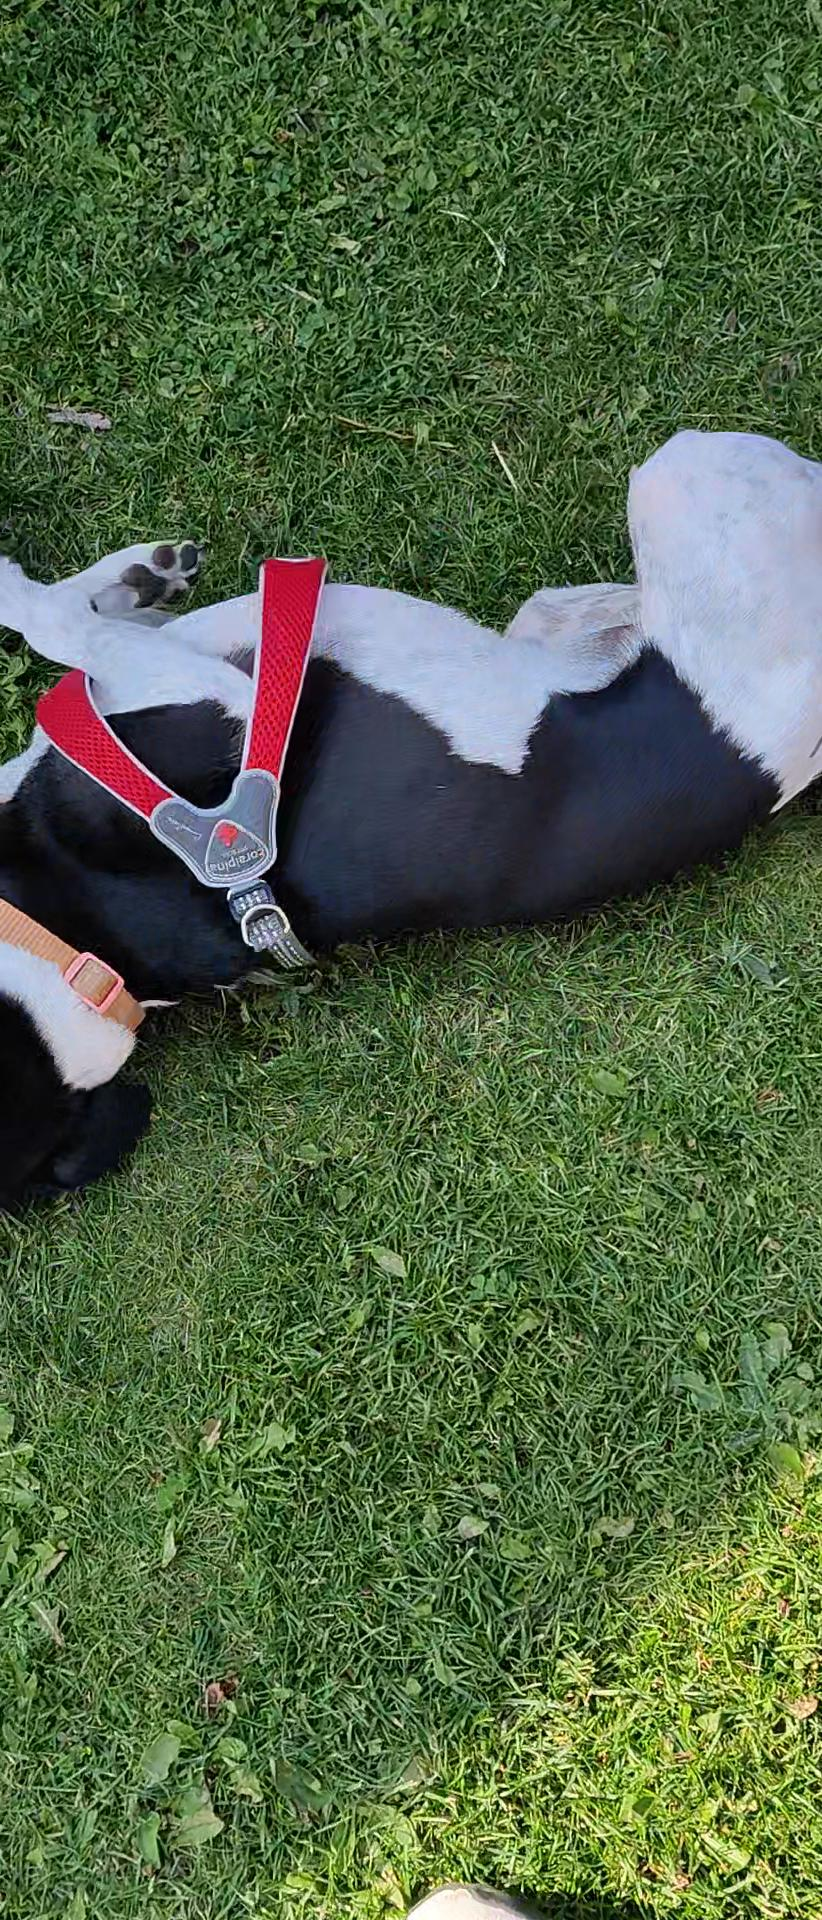Dog: (0, 404, 822, 1228)
